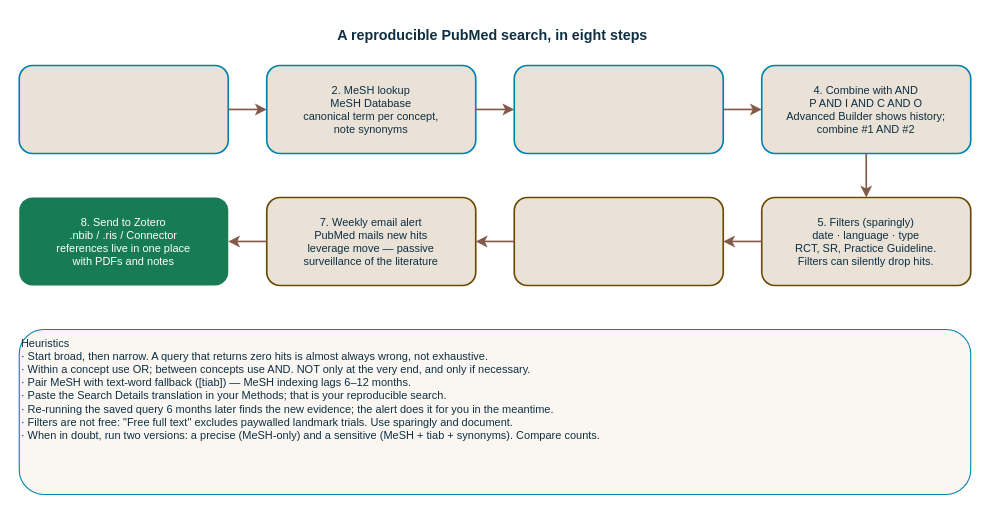
This 991x514 diagram has some shape labels left out. Each missing label, with the box of its shape:
1. Frame as PICO P · I · C · O Population, Intervention, Comparator, Outcome: (18, 64, 229, 154)
3. Build blocks ("asthma"[MeSH] OR "asthma"[tiab]) one block per PICO concept: (513, 64, 724, 154)
6. Save to MyNCBI "Create alert" version-controls the query; re-run anytime: (513, 196, 724, 286)
